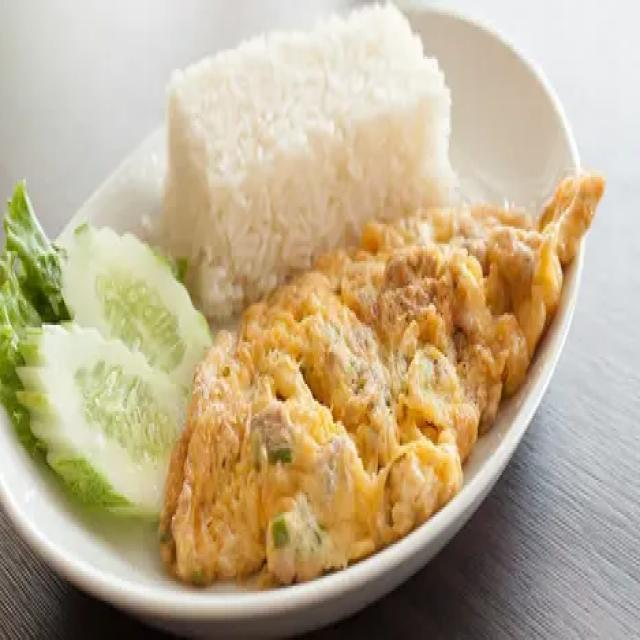nasi_putih: (141, 3, 444, 278)
telur_ayam_dadar: (155, 210, 604, 588)
